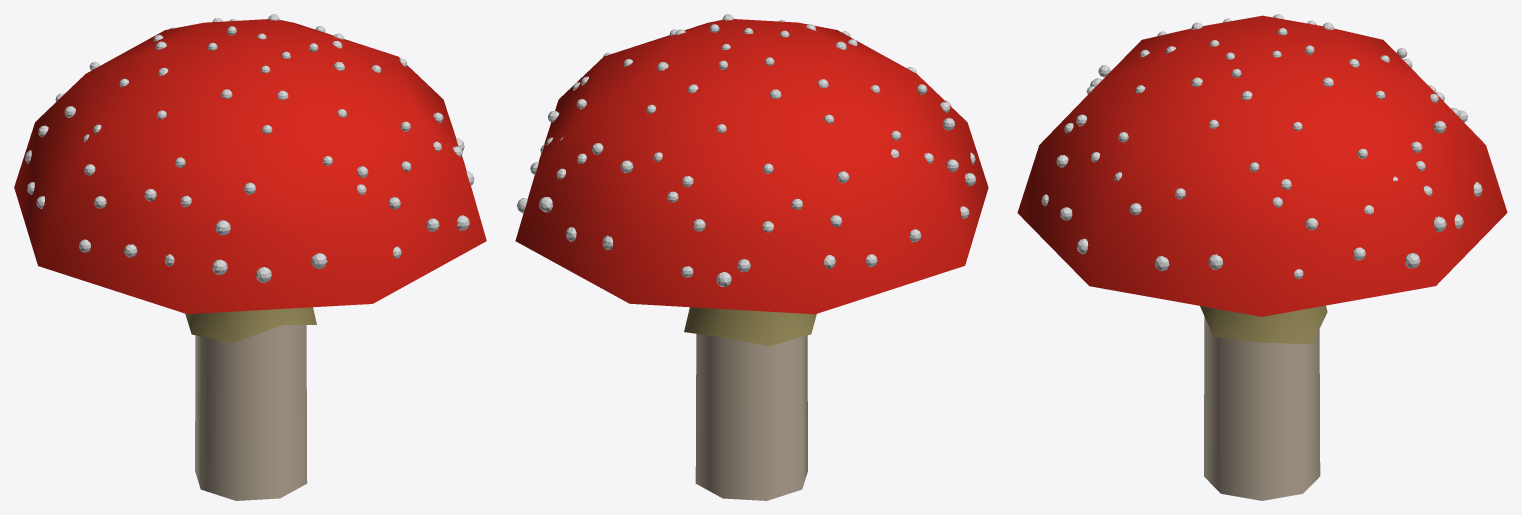
File: AntonioCenarioFase1.fbx_CogumeloVermelho.fbx
3 renders of one model, left to right at view 1: azimuth 30°, elevation 25°; view 2: azimuth 150°, elevation 25°; view 3: azimuth 270°, elevation 25°, orthographic.
Parts seen in each view (by area): view 1: CogumeloVermelho; view 2: CogumeloVermelho; view 3: CogumeloVermelho.
Part boxes in pixels (x1=…): CogumeloVermelho: x1=14, y1=14, x2=486, y2=500; CogumeloVermelho: x1=515, y1=14, x2=988, y2=500; CogumeloVermelho: x1=1017, y1=14, x2=1507, y2=500.
Size of the model in its own units: 173 by 168 by 172.
